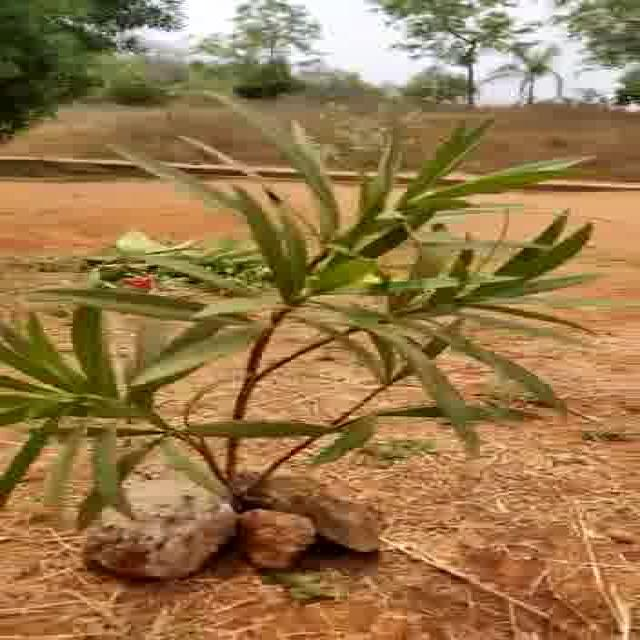OLEANDER: (16, 109, 619, 478)
